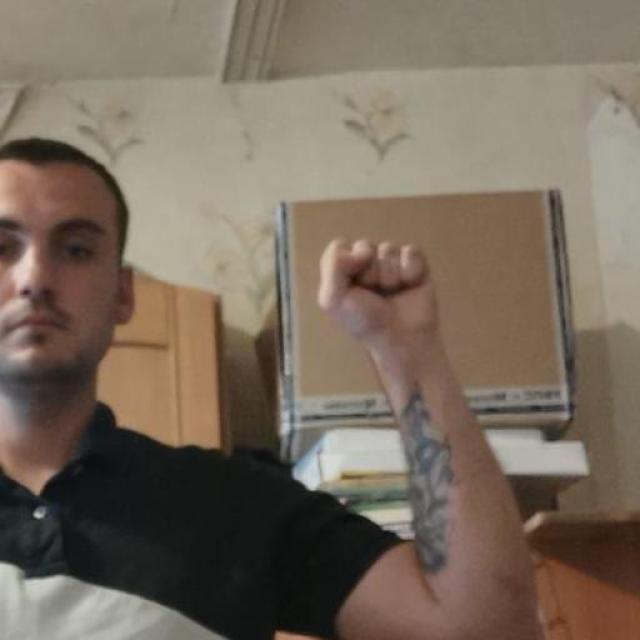hand: (315, 234, 440, 348)
